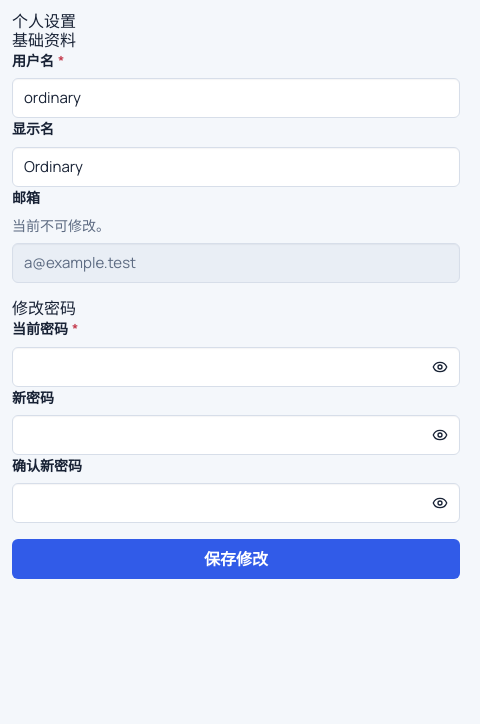
Test case: 个人设置提交交互 › 当前密码错误关联到密码框并清空密码
Type "wrong-123" into the password field labelled "当前密码*" at [236, 367], box [12, 347, 460, 387]
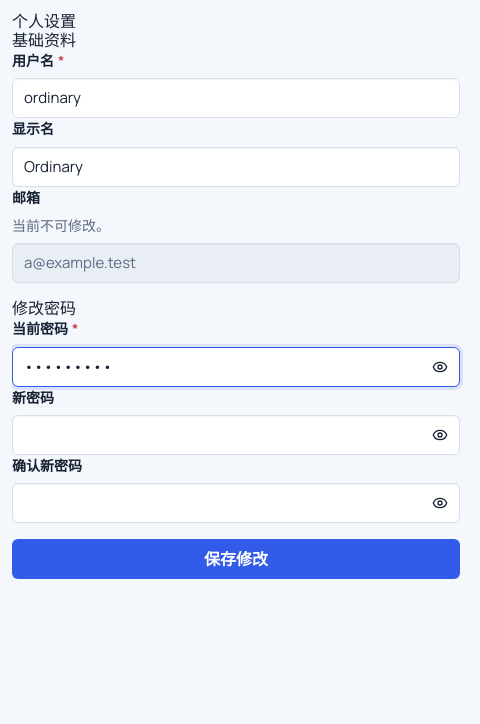
Click the button "保存修改" at [236, 559], box [12, 539, 460, 579]
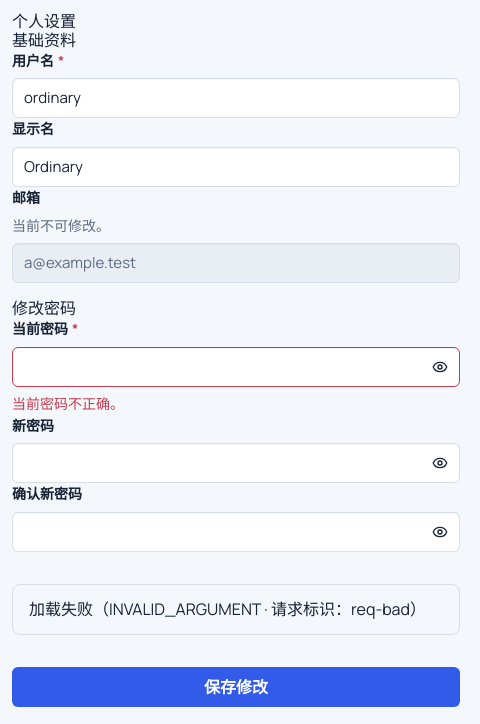
Result: the text "当前密码不正确。" is shown at [12, 394, 124, 413]
Result: the password field labelled "当前密码*" is empty at [12, 347, 460, 387]
